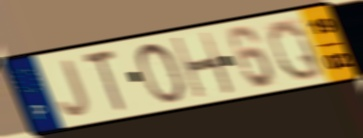6: (228, 24, 277, 92)
H: (169, 29, 237, 101)
J: (57, 56, 92, 118)
O: (134, 40, 187, 106)
Q: (266, 18, 327, 83)
T: (80, 48, 129, 115)
